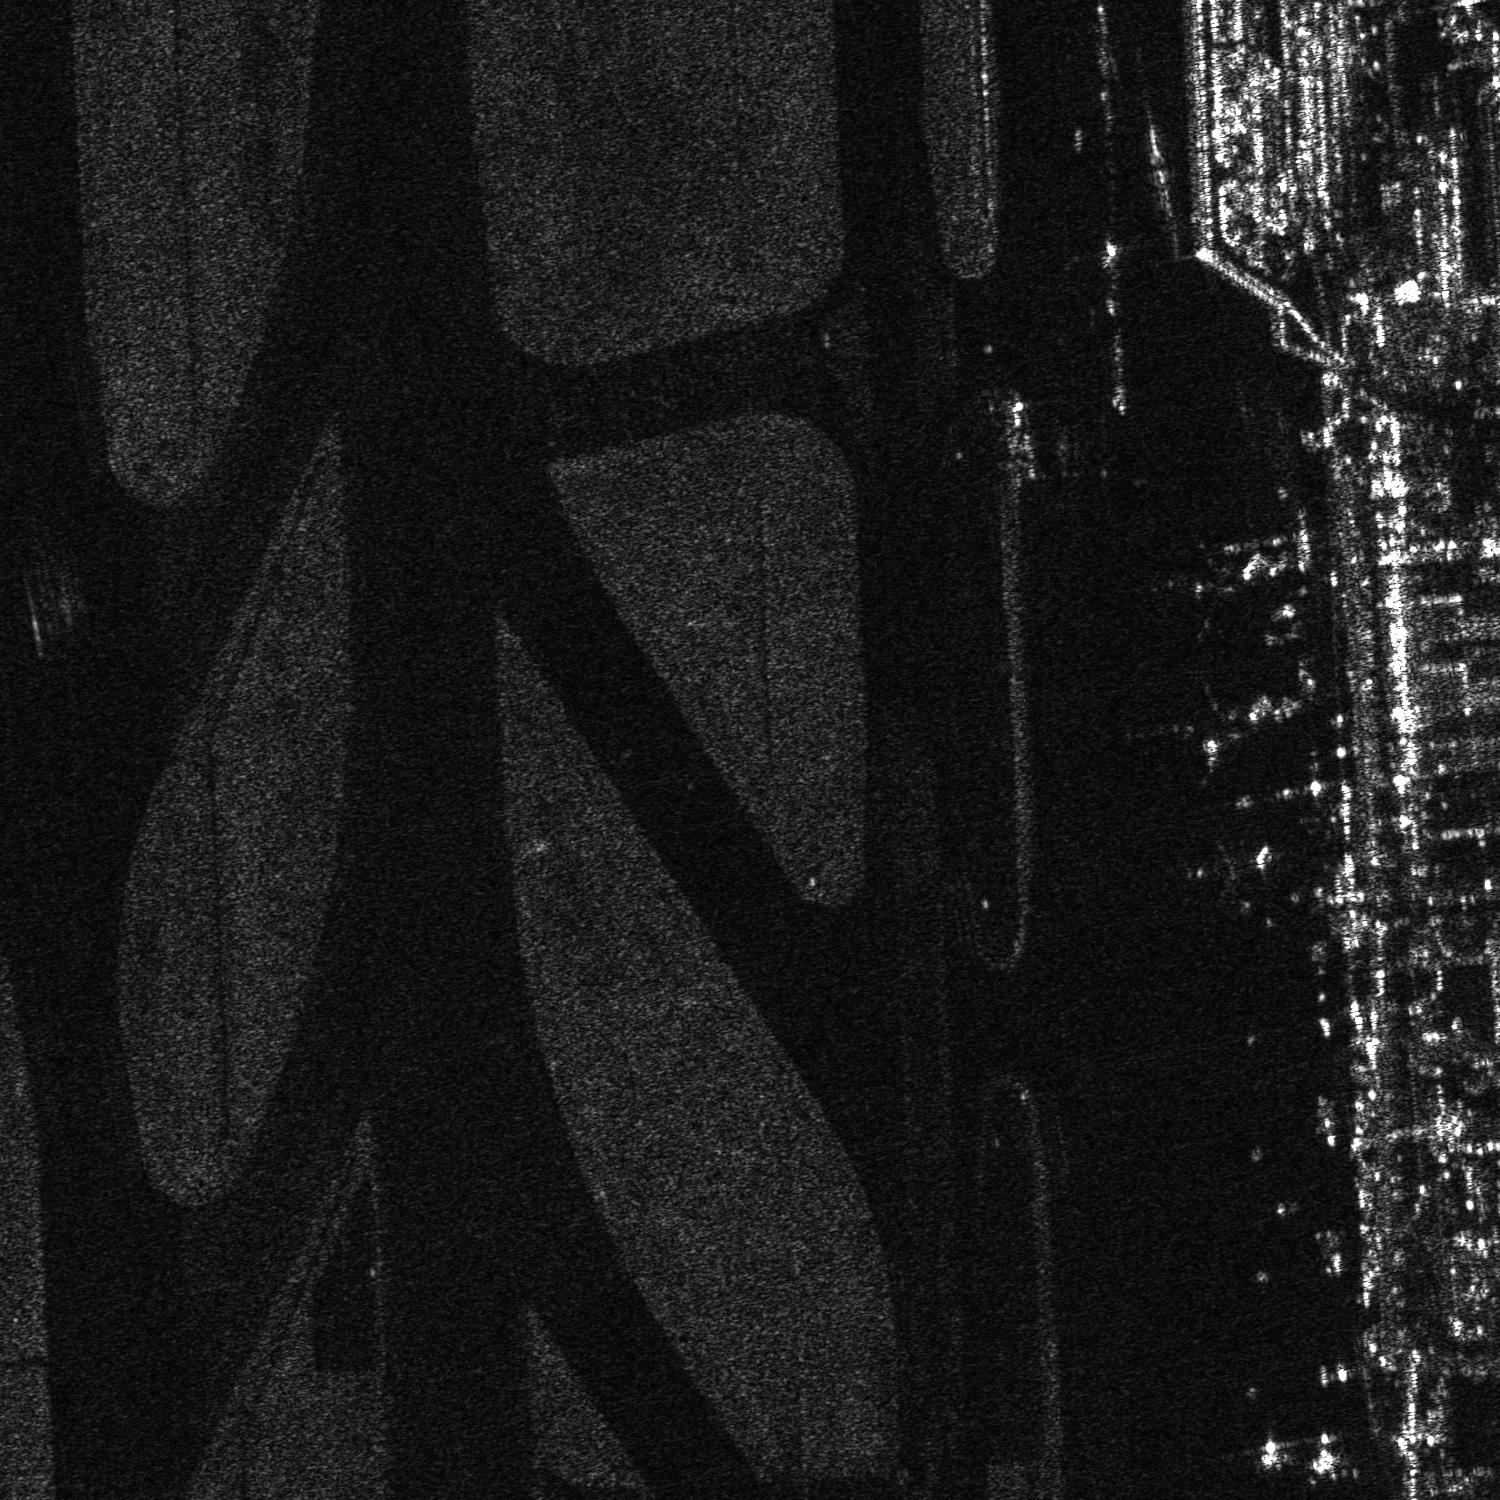ARJ21: (1114, 666, 1272, 788)
other: (1140, 537, 1265, 648), (1180, 832, 1279, 915)
